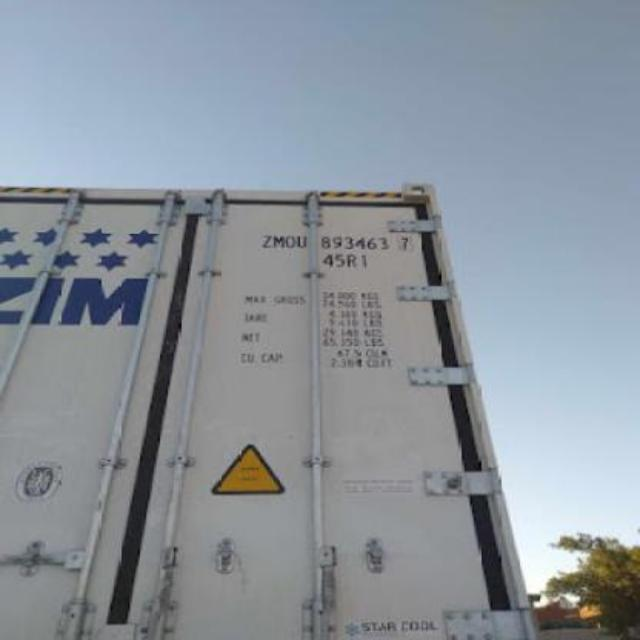3: (378, 235, 390, 251), (344, 236, 356, 248)
4: (356, 236, 366, 250)
6: (366, 236, 378, 250)
7: (398, 236, 412, 252)
8: (322, 236, 332, 248)
9: (332, 236, 344, 250)
M: (272, 236, 286, 248)
O: (286, 236, 296, 248)
U: (296, 236, 308, 248)
Z: (260, 235, 272, 248)
